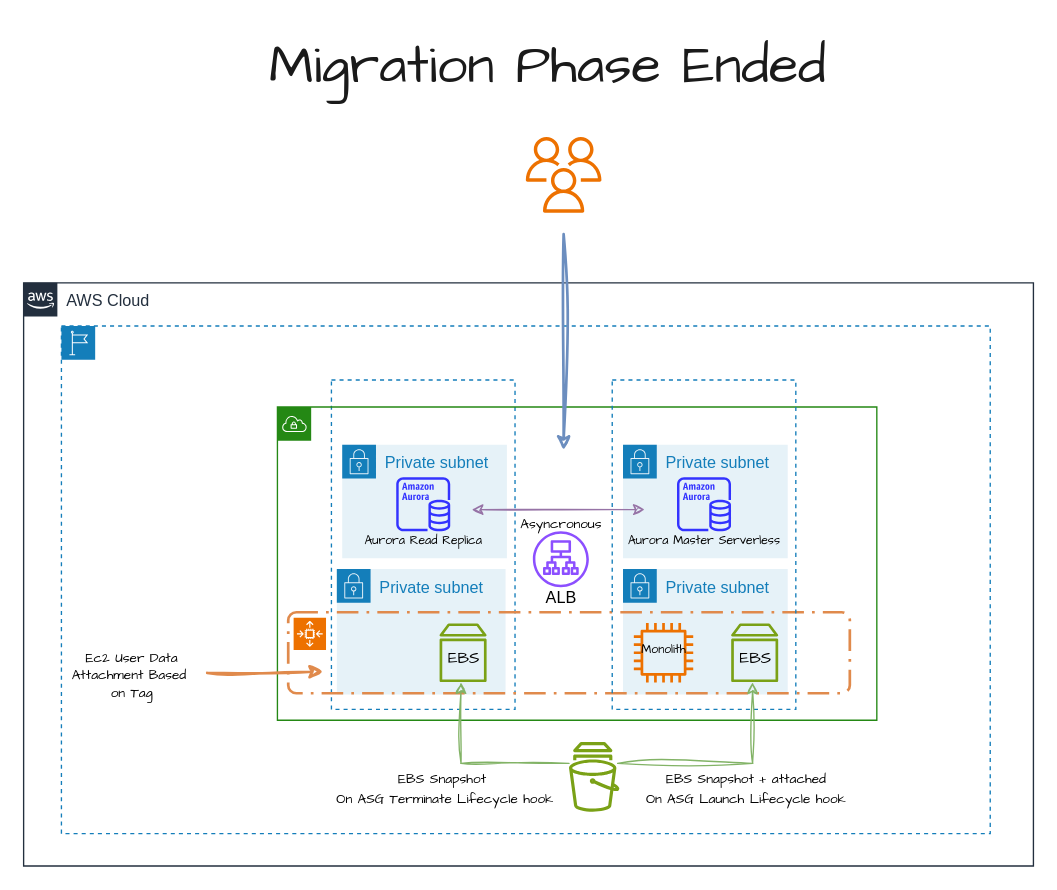
Some shapes in this 1057 by 890 pixel diagram are drawn without their labels. The shapes that lost their labels are listed below. From the top down, each one's box as (x1, y1, x2, y2) in pixels, then its label:
(330, 379, 515, 709): AZ 1
(276, 406, 877, 720): Migrated Resources
(611, 379, 796, 709): AZ 2
(60, 325, 990, 834): Region
